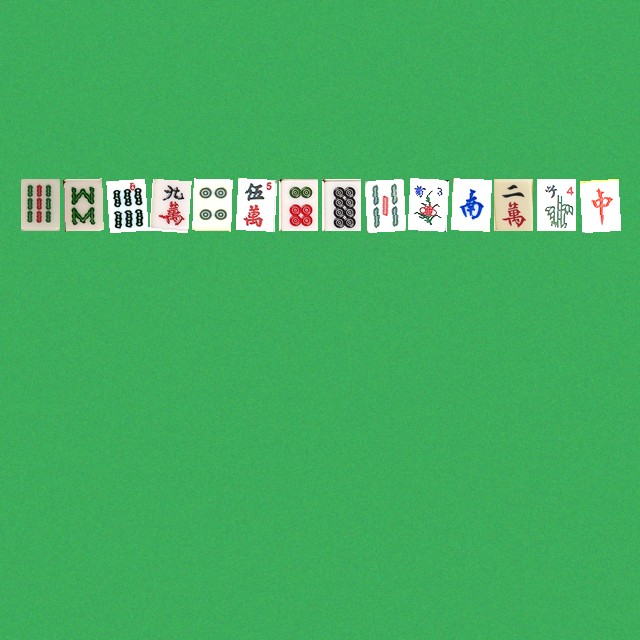tile: (20, 178, 59, 230), (63, 178, 102, 230), (106, 178, 145, 230), (149, 178, 188, 230), (192, 178, 231, 230), (235, 178, 274, 230), (278, 178, 317, 230), (321, 178, 360, 230), (364, 178, 403, 230), (407, 178, 446, 230), (450, 178, 489, 230), (493, 178, 532, 230), (536, 178, 575, 230), (579, 178, 618, 230)
